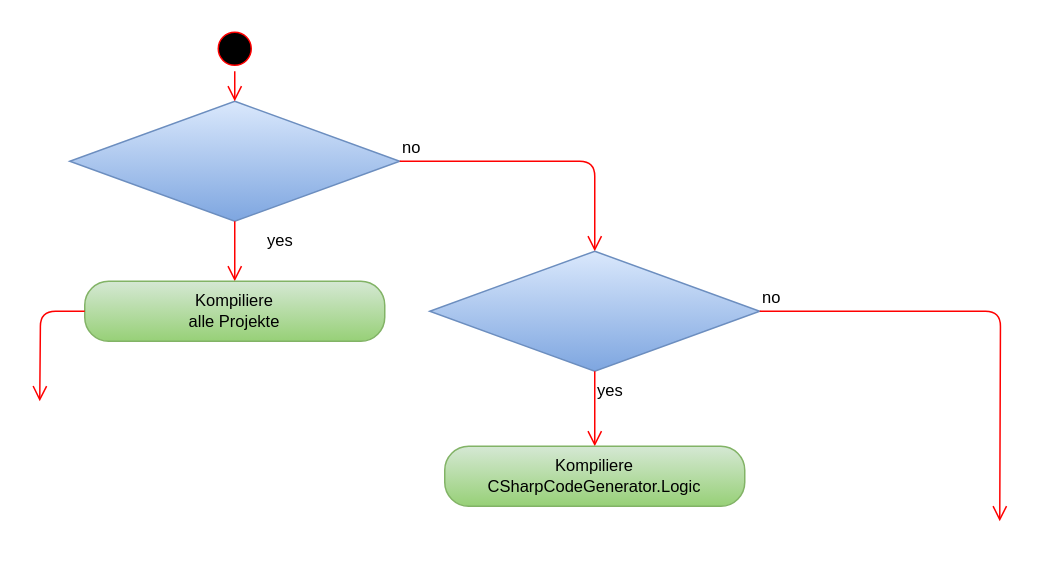
Image size: 1043x563. Some labels were removed from this diagram. Here are the shapes that lost their labels. From the top down, the box of each, then its label:
(68, 100, 400, 221): CommonBase geändert?
(428, 250, 760, 371): CSharpCodeGenerator.Logic geändert?
